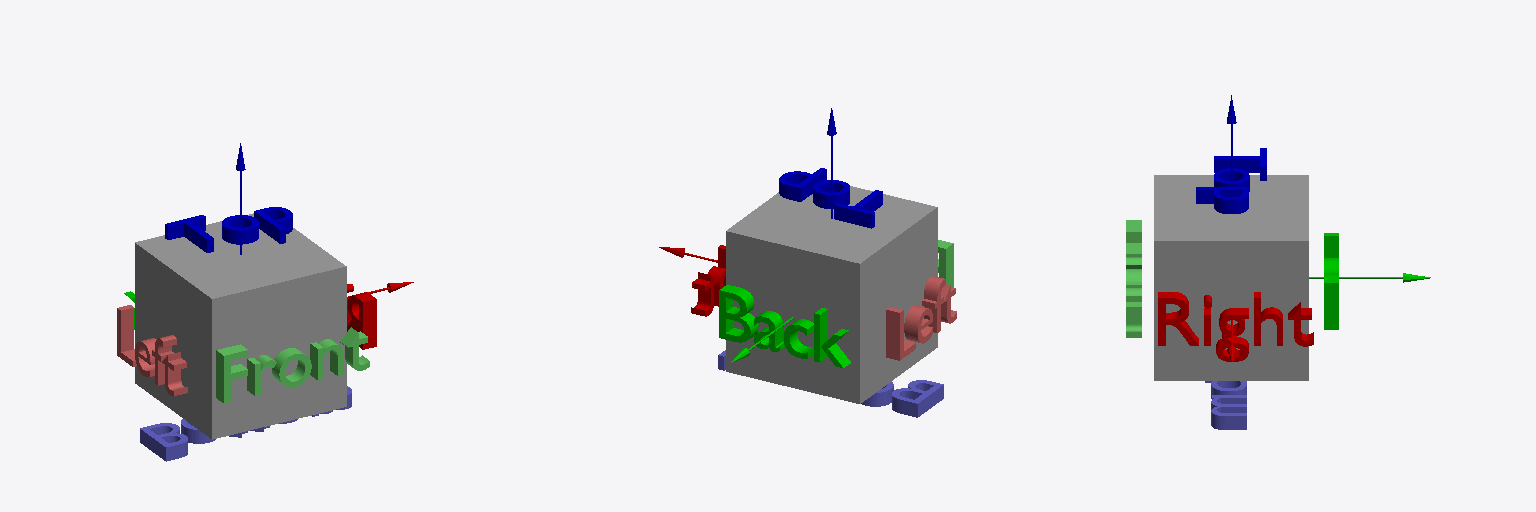
Rendered from sides_labeled.obj.
3 renders of one model, left to right at view 1: azimuth 30°, elevation 25°; view 2: azimuth 150°, elevation 25°; view 3: azimuth 270°, elevation 25°, orthographic.
Parts seen in each view (by area): view 1: Cube, Front, Left, Top, Bottom, Right; view 2: Cube, Back, Left, Top, Bottom, Right, Front; view 3: Cube, Right, Top, Front, Bottom, Back.
Boxes of the visible parts, x1,y1,x2,y2 form: Cube: [135, 213, 346, 439]; Front: [216, 327, 369, 403]; Left: [117, 305, 187, 395]; Top: [165, 207, 292, 252]; Bottom: [140, 386, 351, 461]; Right: [347, 284, 376, 349]; Cube: [726, 186, 937, 403]; Back: [719, 285, 850, 367]; Left: [886, 276, 956, 360]; Top: [779, 168, 882, 228]; Bottom: [718, 350, 943, 417]; Right: [691, 245, 725, 316]; Front: [938, 240, 953, 286]; Cube: [1154, 175, 1308, 380]; Right: [1158, 292, 1313, 361]; Top: [1196, 148, 1266, 213]; Front: [1126, 220, 1141, 337]; Bottom: [1205, 381, 1246, 429]; Back: [1324, 233, 1338, 329].
Bounding box in the file's own units: 4.03 × 4.03 × 3.97.